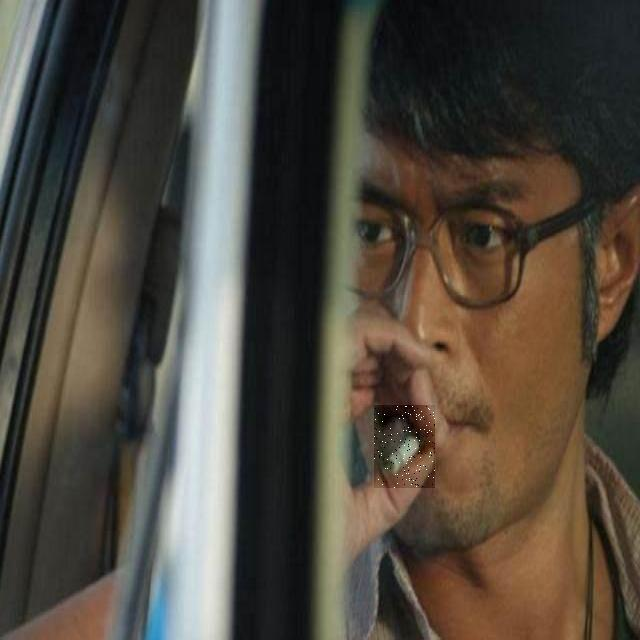smoking: (374, 406, 435, 490)
